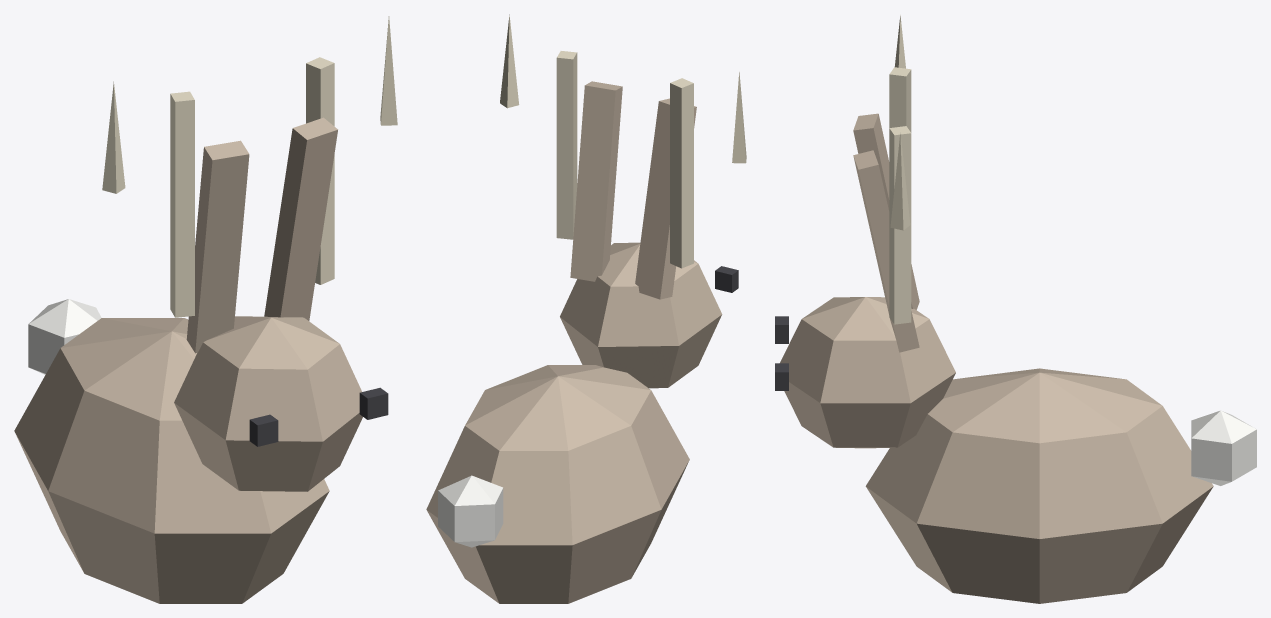
Rendered from jackalope.glb.
The picture shows the model from 3 angles, left to right: view 1: azimuth 30°, elevation 25°; view 2: azimuth 150°, elevation 25°; view 3: azimuth 270°, elevation 25°; orthographic projection. The views are drawn at different scales.
Visible parts, largest first — view 1: jackalope; view 2: jackalope; view 3: jackalope.
Part boxes in pixels (x1=…): jackalope: x1=14, y1=16, x2=397, y2=603; jackalope: x1=426, y1=14, x2=746, y2=603; jackalope: x1=775, y1=15, x2=1256, y2=603.
Bounding box in the file's own units: 0.4287 × 0.835 × 0.692.
